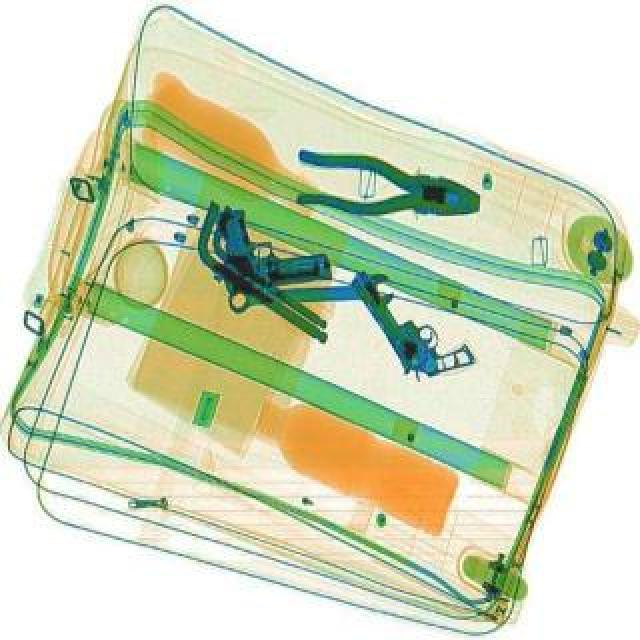gun: (348, 246, 476, 390), (204, 196, 334, 296)
scissors: (224, 272, 392, 316)
wrench: (288, 144, 484, 228)
